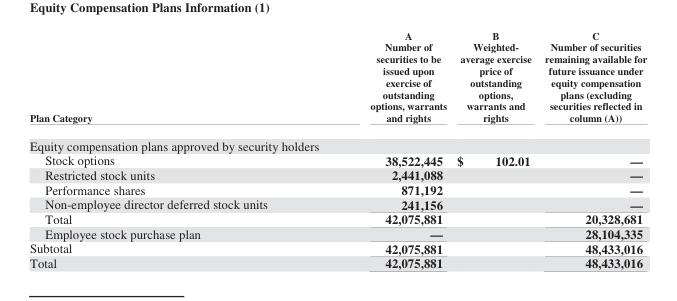table: (28, 29, 646, 270)
table column: (28, 29, 318, 270), (318, 29, 451, 270), (537, 29, 646, 270), (451, 29, 537, 270)
table column header: (28, 29, 646, 130)
table projected row header: (28, 130, 646, 152)
table row: (28, 29, 646, 130), (28, 130, 646, 152), (28, 152, 646, 167), (28, 181, 646, 196), (28, 196, 646, 211), (28, 211, 646, 226), (28, 240, 646, 255), (28, 255, 646, 270), (28, 167, 646, 181), (28, 226, 646, 240)
